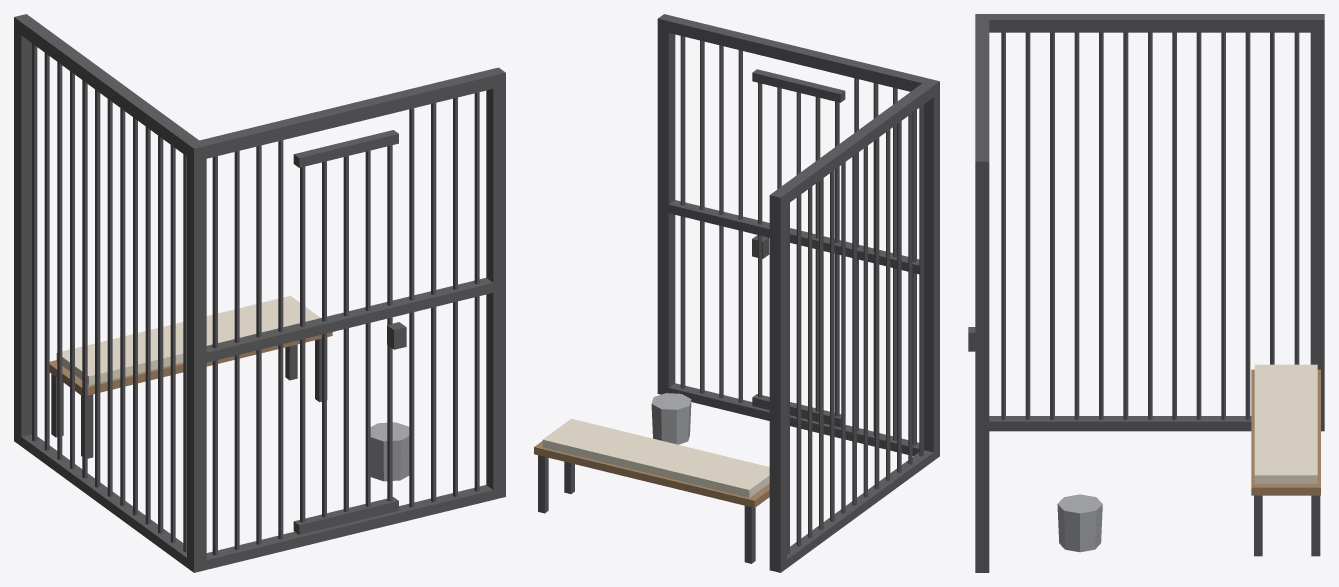
The model's file is SM_Jail_Cell.glb.
3 views of the same model, side by side, from view 1: azimuth 30°, elevation 25°; view 2: azimuth 150°, elevation 25°; view 3: azimuth 270°, elevation 25° (orthographic). The views are drawn at different scales.
Parts seen in each view (by area): view 1: SM_Jail_Cell; view 2: SM_Jail_Cell; view 3: SM_Jail_Cell.
Part boxes in pixels (<box>): SM_Jail_Cell: <box>14,14,505,572</box>; SM_Jail_Cell: <box>534,14,939,572</box>; SM_Jail_Cell: <box>968,14,1324,572</box>.
Size of the model in its own units: 2 by 2.6 by 2.04.
